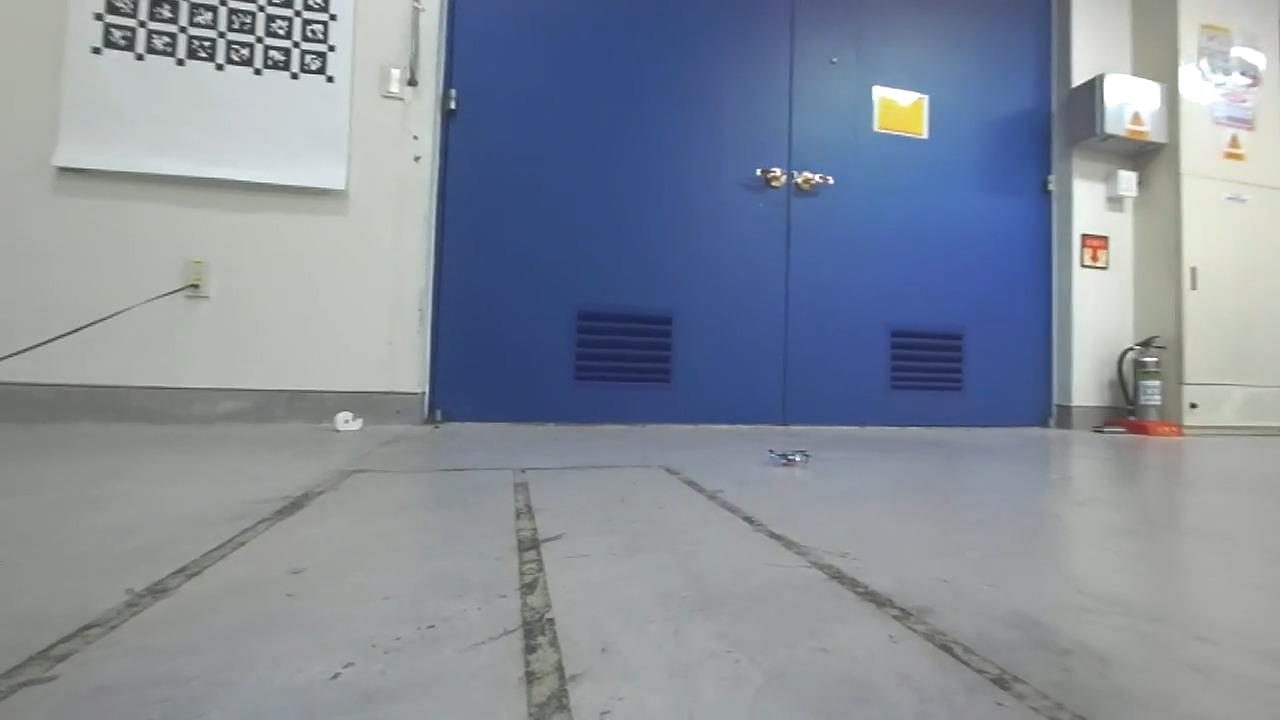crazyflie: (762, 441, 821, 472)
